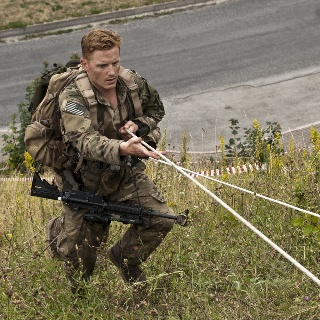rifle: (29, 171, 190, 229)
